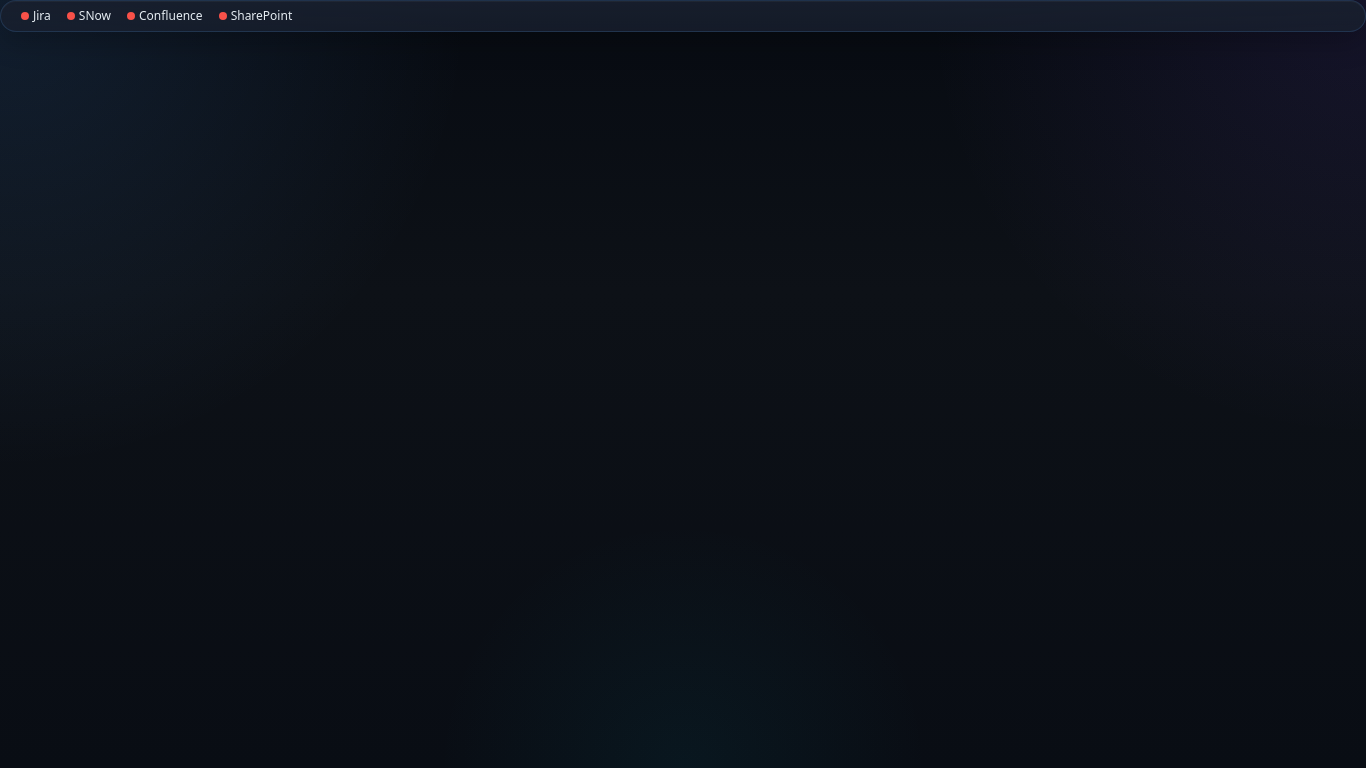
Test: ConnectionBar › opens the Confluence panel when the Confluence indicator is clicked
The width and height of the screenshot is (1366, 768).
Click the button "Confluence": (165, 16) x1=123 y1=5 x2=207 y2=27
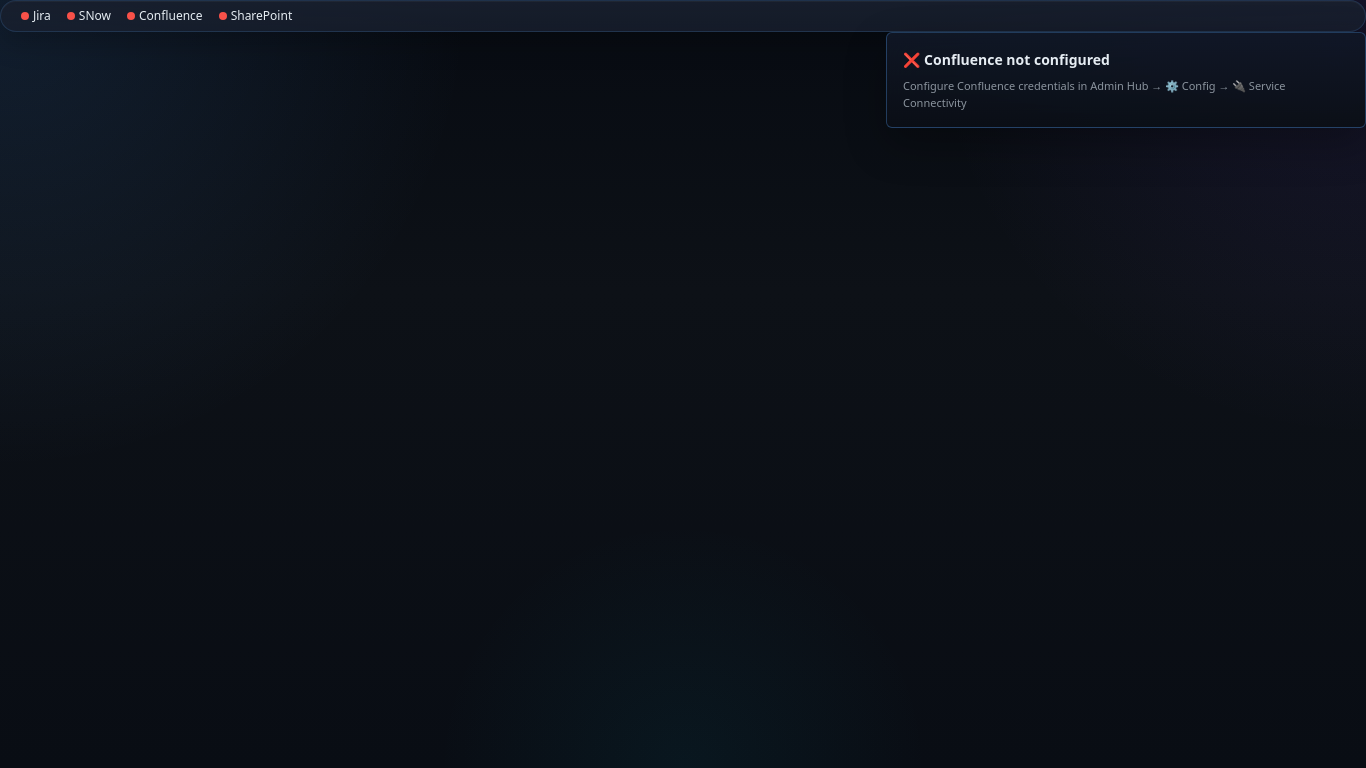
Expected: the element named "Connection details" is shown, x1=886 y1=32 x2=1365 y2=128
